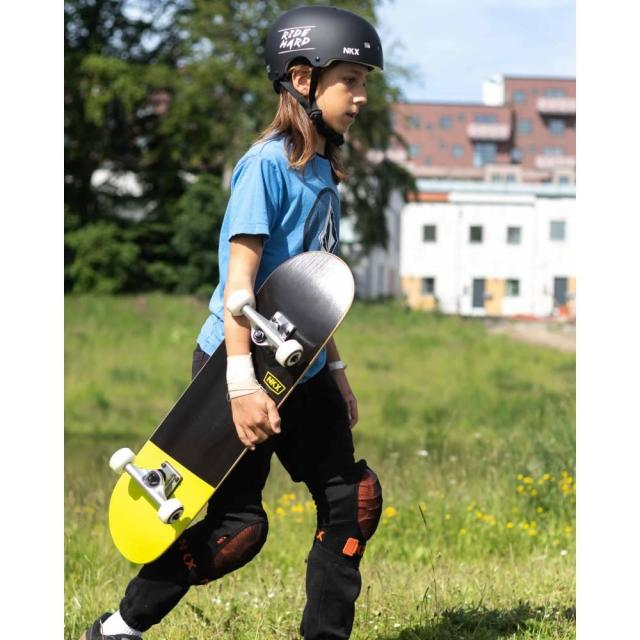Helmet: (266, 5, 386, 137)
